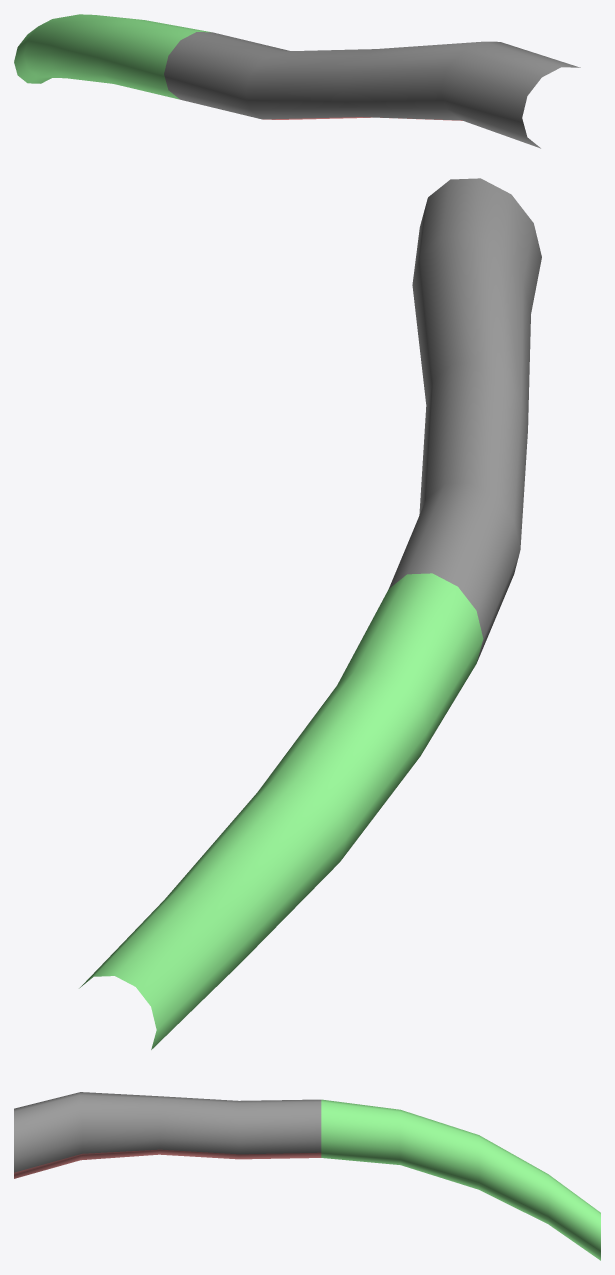
The picture shows the model from 3 angles, top to bottom: view 1: azimuth 30°, elevation 25°; view 2: azimuth 150°, elevation 25°; view 3: azimuth 270°, elevation 25°; orthographic projection. The views are drawn at different scales.
Visible parts, largest first — view 1: root_06_3; view 2: root_06_3; view 3: root_06_3.
Part boxes in pixels (<box>): root_06_3: <box>14,14,580,148</box>; root_06_3: <box>79,178,541,1049</box>; root_06_3: <box>14,1092,600,1260</box>.
Size of the model in its own units: 20.56 by 20.31 by 53.07.
